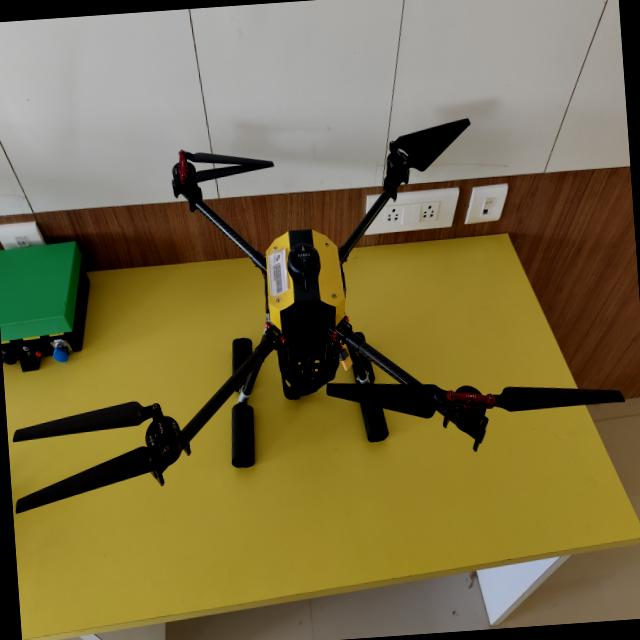quadcopter: (0, 101, 638, 525)
